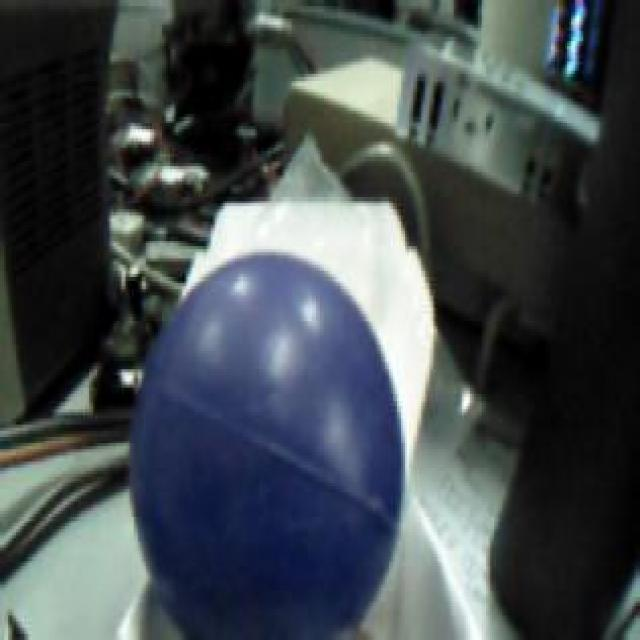BallPurple: (132, 251, 402, 640)
